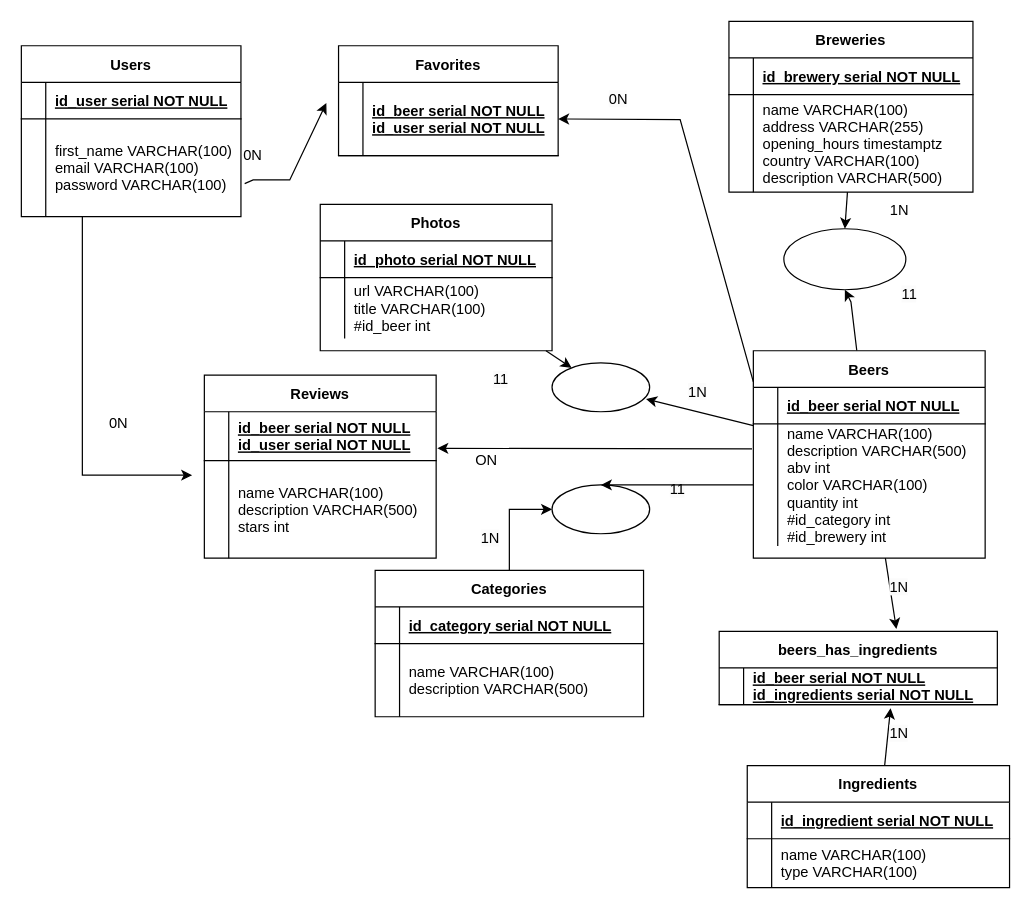
This 1031x909 diagram has some shape labels left out. Here are the shapes that lost their labels. From the top down, the centre of each, then its label:
[844,259]: contains
[600,387]: have
[600,509]: belongs to
